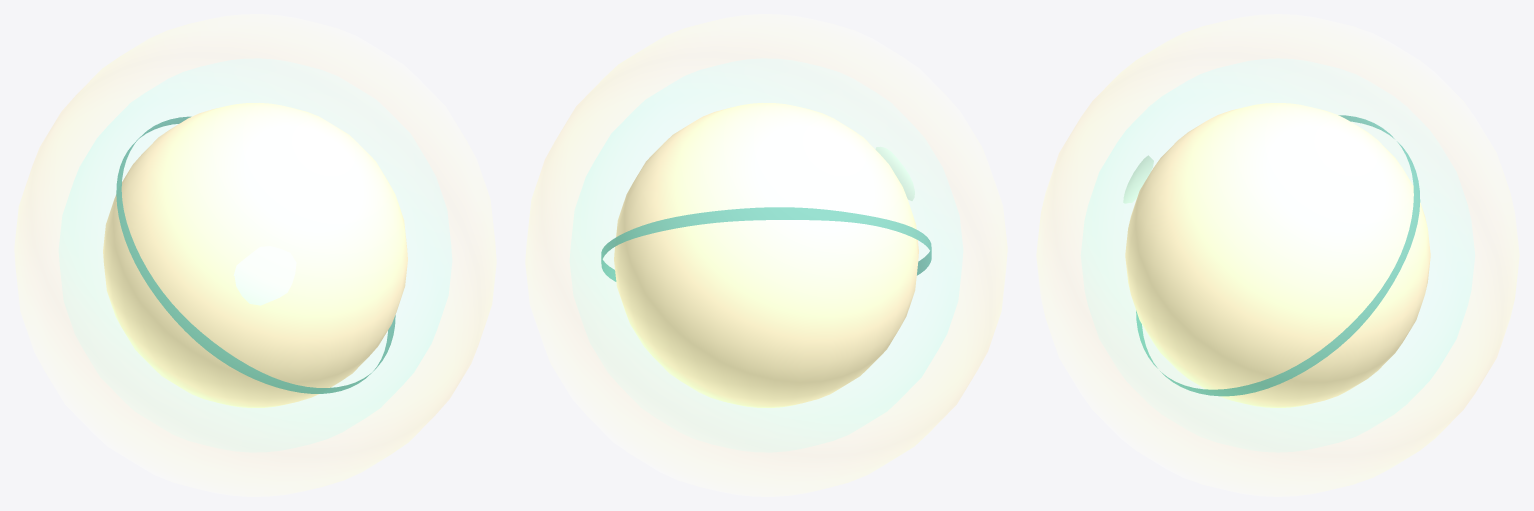
The model's file is quantum-ball.gltf.
3 renders of one model, left to right at view 1: azimuth 30°, elevation 25°; view 2: azimuth 150°, elevation 25°; view 3: azimuth 270°, elevation 25°, orthographic.
Parts seen in each view (by area): view 1: QuantumBallHalo, QuantumBallShell, QuantumBallCore, QuantumBallScarBand, QuantumBallChalkNick; view 2: QuantumBallHalo, QuantumBallShell, QuantumBallCore, QuantumBallScarBand, QuantumBallChalkNick; view 3: QuantumBallHalo, QuantumBallShell, QuantumBallCore, QuantumBallScarBand, QuantumBallChalkNick.
Boxes of the visible parts, <box> form: QuantumBallHalo: <box>14,14,496,496</box>; QuantumBallShell: <box>59,58,451,452</box>; QuantumBallCore: <box>103,103,407,407</box>; QuantumBallScarBand: <box>116,116,395,393</box>; QuantumBallChalkNick: <box>233,246,296,305</box>; QuantumBallHalo: <box>525,14,1007,496</box>; QuantumBallShell: <box>570,58,962,452</box>; QuantumBallCore: <box>614,103,918,407</box>; QuantumBallScarBand: <box>601,207,931,281</box>; QuantumBallChalkNick: <box>875,147,914,200</box>; QuantumBallHalo: <box>1036,14,1519,496</box>; QuantumBallShell: <box>1081,58,1474,452</box>; QuantumBallCore: <box>1125,103,1430,407</box>; QuantumBallScarBand: <box>1136,115,1420,396</box>; QuantumBallChalkNick: <box>1123,155,1153,203</box>.
Bounding box in the file's own units: 0.174 × 0.174 × 0.174.
